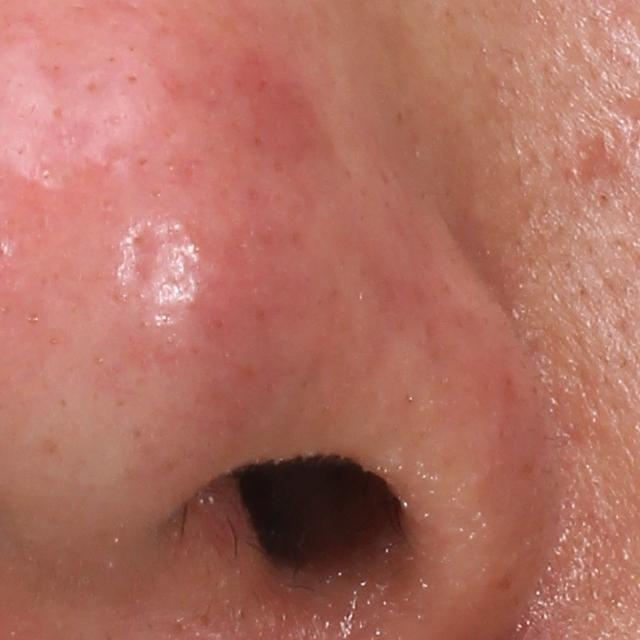atrophic_scar: (128, 216, 177, 297)
